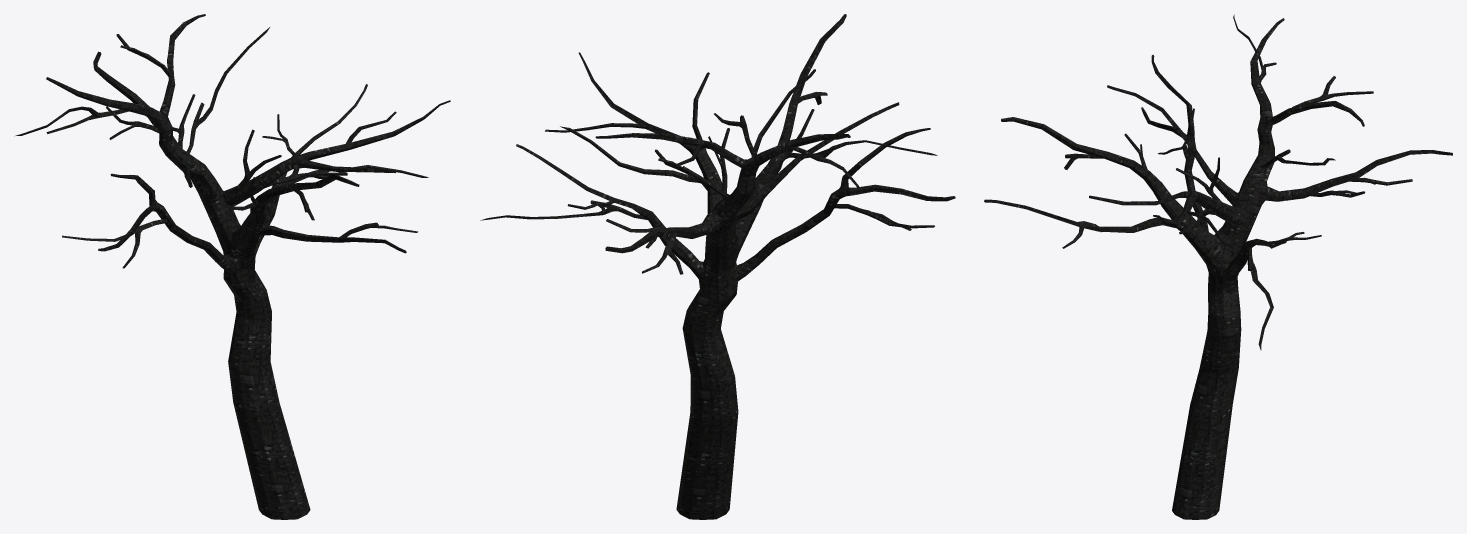
The model's file is 1_BURNT_01_16-transformed.glb.
3 renders of one model, left to right at view 1: azimuth 30°, elevation 25°; view 2: azimuth 150°, elevation 25°; view 3: azimuth 270°, elevation 25°, orthographic. The views are drawn at different scales.
Visible parts, largest first — view 1: default; view 2: default; view 3: default.
Part boxes in pixels (x1=…): default: x1=14, y1=14, x2=450, y2=519; default: x1=480, y1=14, x2=955, y2=519; default: x1=984, y1=14, x2=1452, y2=519.
Bounding box in the file's own units: 8.96 × 8.83 × 9.2.
Materials: 1 (1 with a texture image).
